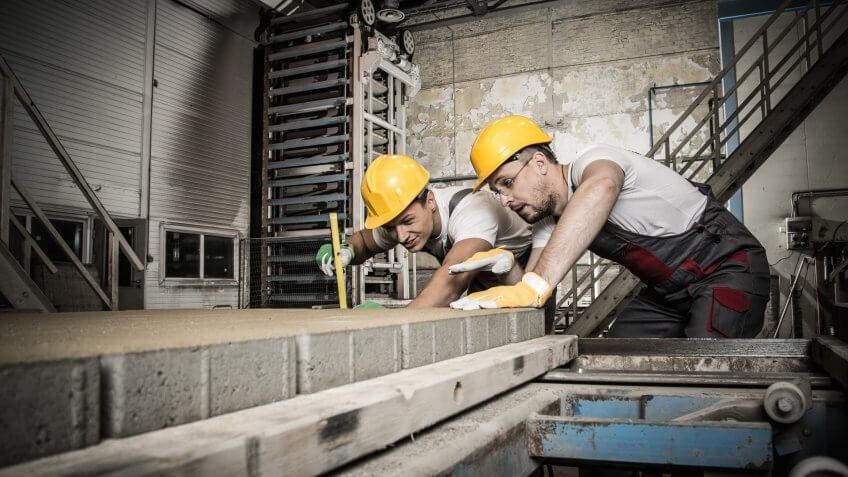Helmet: (472, 117, 559, 225), (363, 155, 433, 253)
